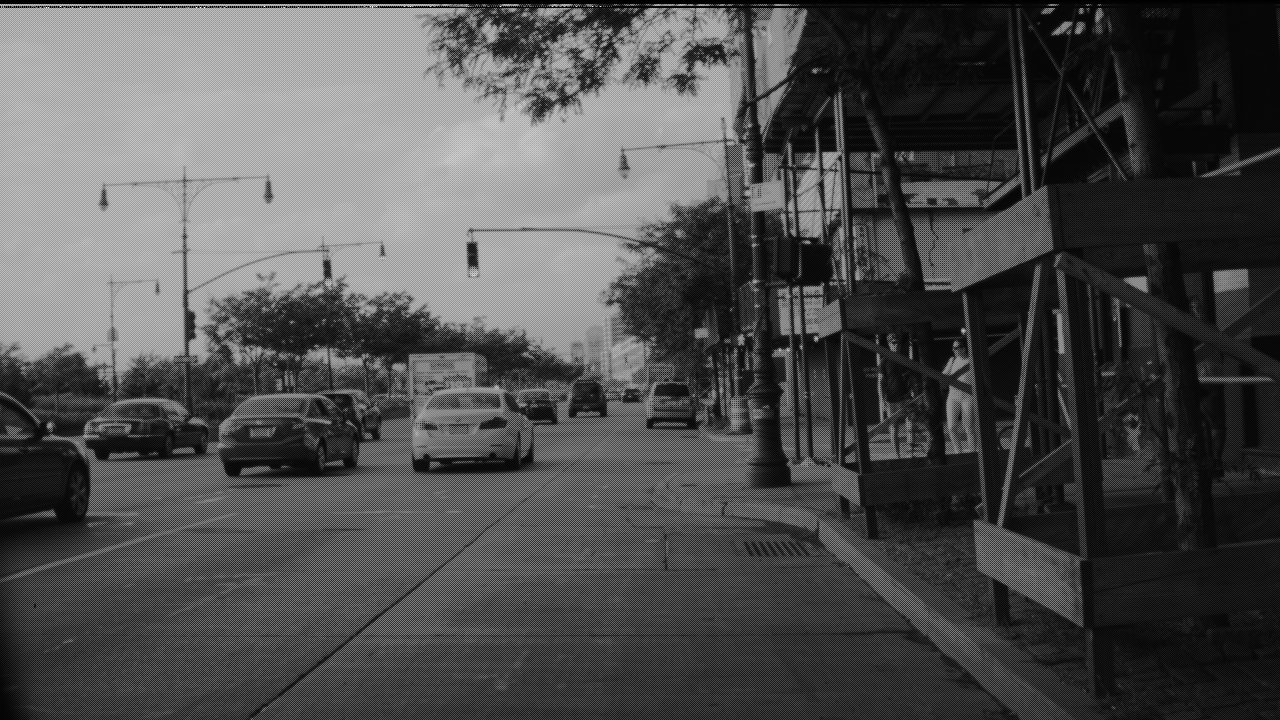pole: (738, 6, 788, 473), (181, 162, 191, 392)
